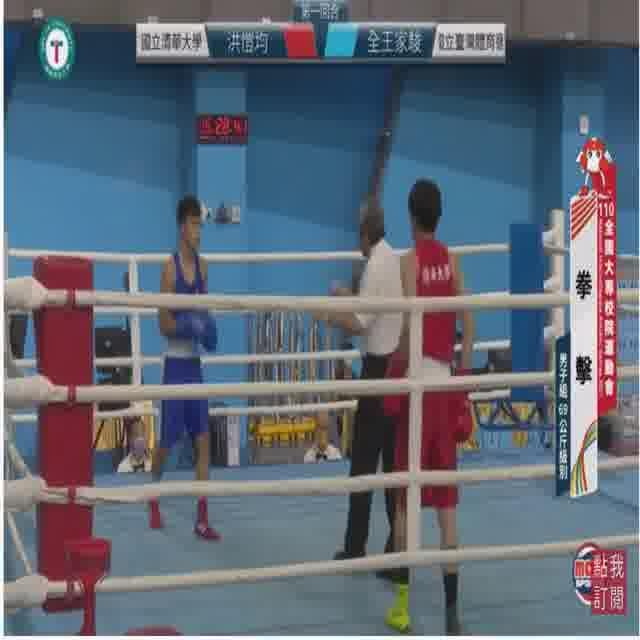blue-player: (142, 196, 225, 542)
red-player: (380, 176, 477, 637)
referee: (307, 193, 409, 583)
